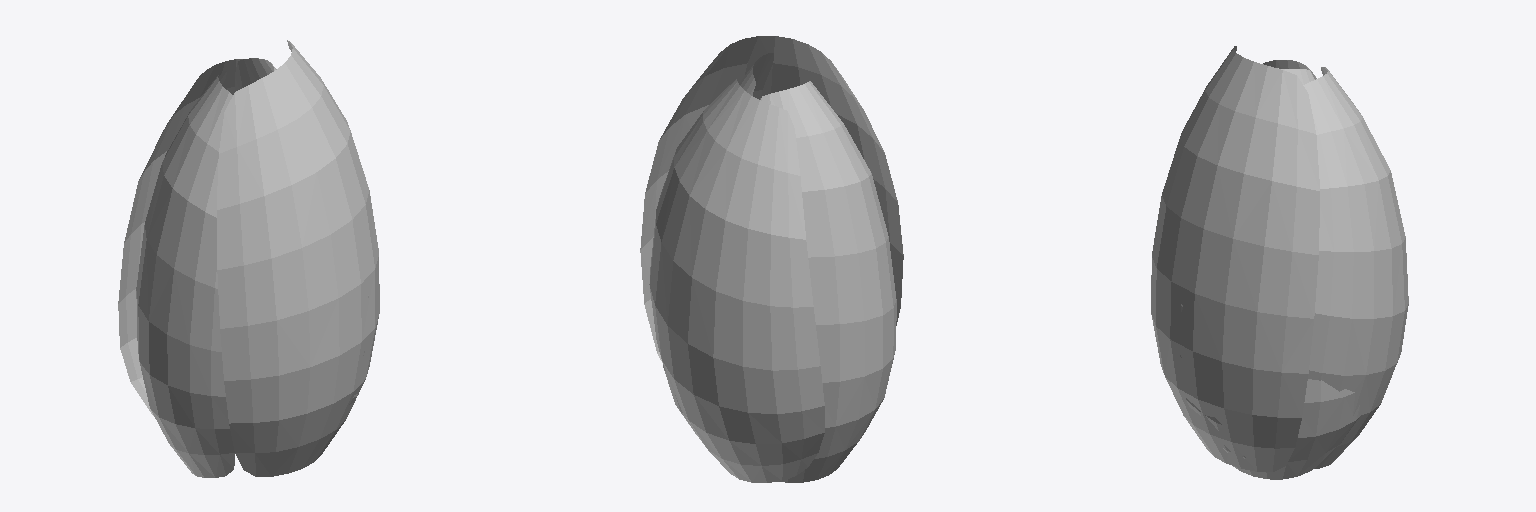
The model's file is Bluete_innen.obj.
3 renders of one model, left to right at view 1: azimuth 30°, elevation 25°; view 2: azimuth 150°, elevation 25°; view 3: azimuth 270°, elevation 25°, orthographic.
Parts seen in each view (by area): view 1: Circle.005; view 2: Circle.005; view 3: Circle.005.
Boxes of the visible parts, x1=… form: Circle.005: x1=118, y1=40, x2=379, y2=477; Circle.005: x1=640, y1=36, x2=903, y2=482; Circle.005: x1=1151, y1=46, x2=1408, y2=479.
Size of the model in its own units: 0.2317 by 0.4082 by 0.2322.